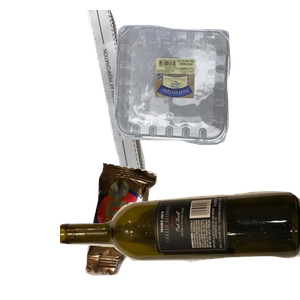glass: (60, 189, 300, 300)
paper: (85, 10, 224, 190)
plastic: (112, 22, 300, 160)
trash: (83, 160, 233, 300)
